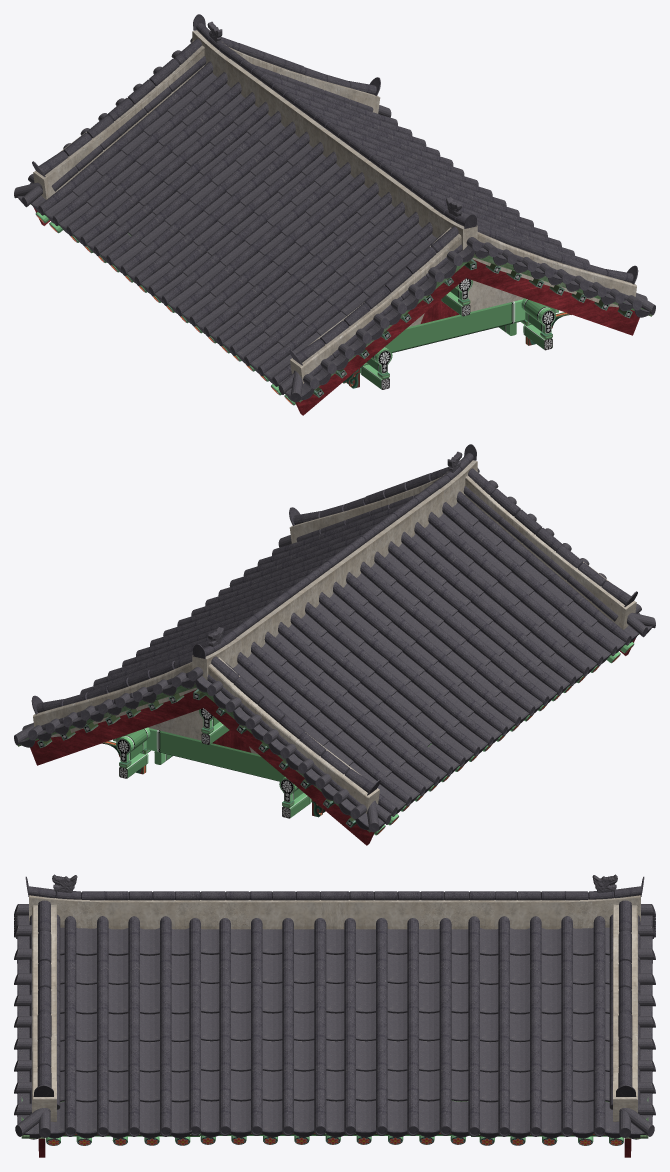
Rendered from SM_R_Gyeongryeongwan.fbx.
3 views of the same model, one above another, from view 1: azimuth 30°, elevation 25°; view 2: azimuth 150°, elevation 25°; view 3: azimuth 270°, elevation 25° (orthographic). The views are drawn at different scales.
Visible parts, largest first — view 1: SM_R_Gyeongryeongwan; view 2: SM_R_Gyeongryeongwan; view 3: SM_R_Gyeongryeongwan.
Boxes of the visible parts, x1,y1,x2,y2 form: SM_R_Gyeongryeongwan: (14, 14, 655, 415); SM_R_Gyeongryeongwan: (14, 444, 655, 845); SM_R_Gyeongryeongwan: (14, 874, 655, 1157).
Bounding box in the file's own units: 824 × 1108 × 378.
8 materials, 8 textured.
